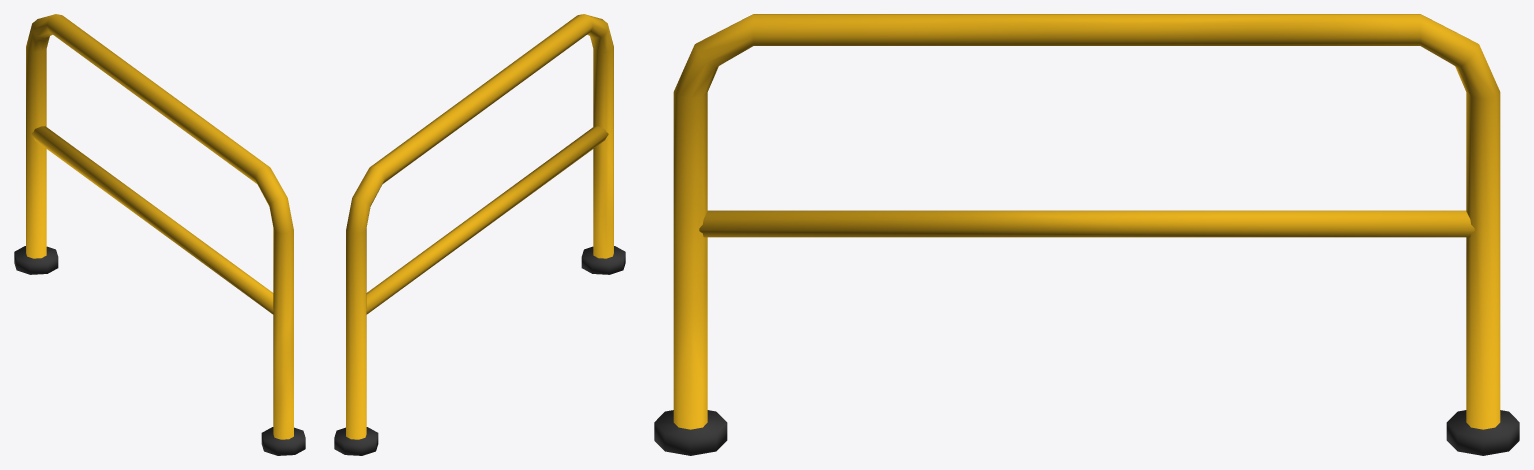
The model's file is pipefence_2.fbx.
The picture shows the model from 3 angles, left to right: view 1: azimuth 30°, elevation 25°; view 2: azimuth 150°, elevation 25°; view 3: azimuth 270°, elevation 25°; orthographic projection. The views are drawn at different scales.
Parts seen in each view (by area): view 1: pipefence2; view 2: pipefence2; view 3: pipefence2.
Part boxes in pixels (<box>): pipefence2: <box>14,14,305,455</box>; pipefence2: <box>334,14,625,455</box>; pipefence2: <box>654,14,1519,455</box>.
Bounding box in the file's own units: 33.07 × 213 × 393.
